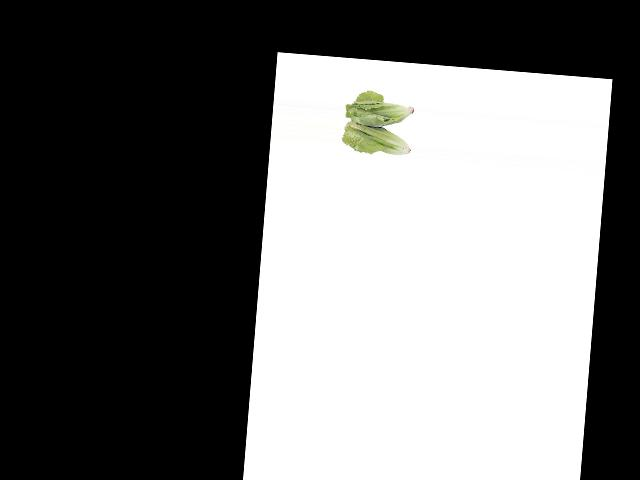lettuce: (341, 95, 415, 160)
